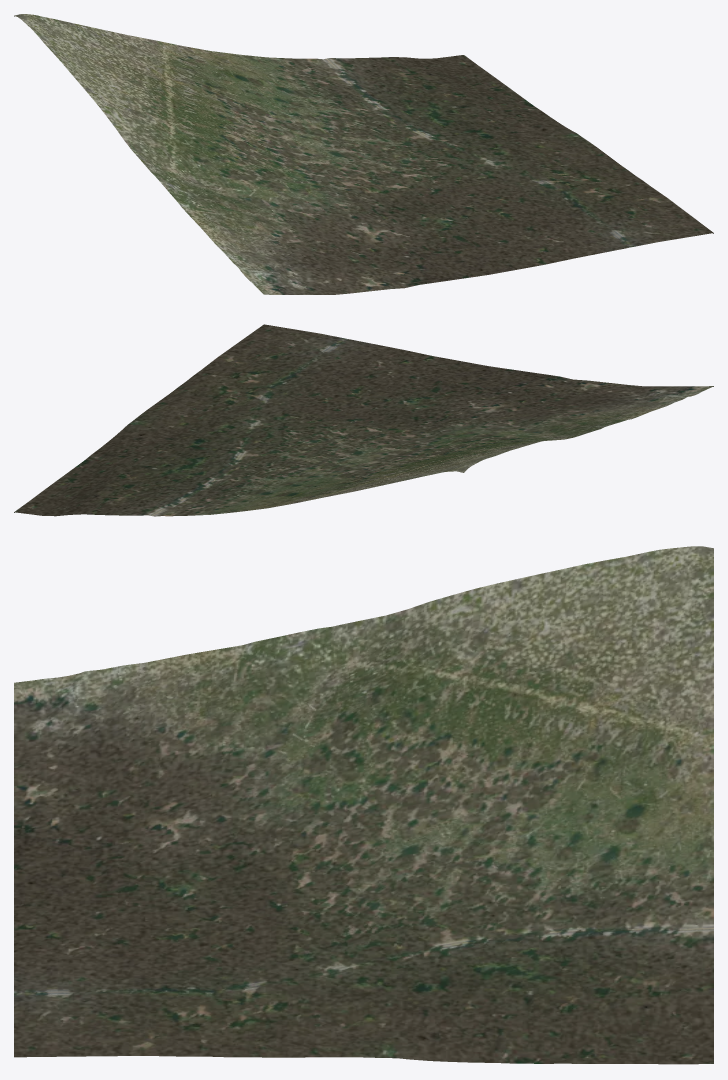
The picture shows the model from 3 angles, top to bottom: view 1: azimuth 30°, elevation 25°; view 2: azimuth 150°, elevation 25°; view 3: azimuth 270°, elevation 25°; orthographic projection. The views are drawn at different scales.
Bounding box in the file's own units: 500 × 161 × 481.
Materials: 1 (1 with a texture image).
